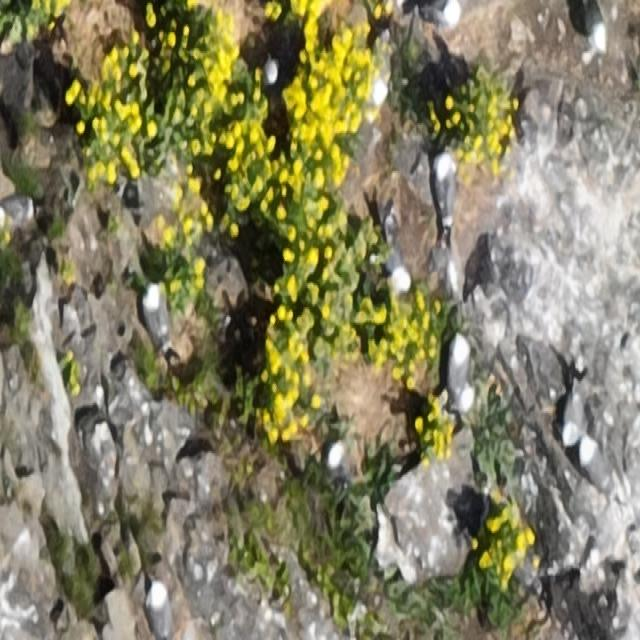umineko: (582, 438, 616, 500), (380, 226, 411, 292), (434, 153, 454, 241), (563, 368, 584, 447), (450, 330, 470, 407), (144, 288, 170, 347), (372, 30, 392, 104), (413, 1, 460, 29), (149, 588, 175, 638), (586, 1, 607, 54), (325, 439, 353, 475), (1, 196, 33, 222)
